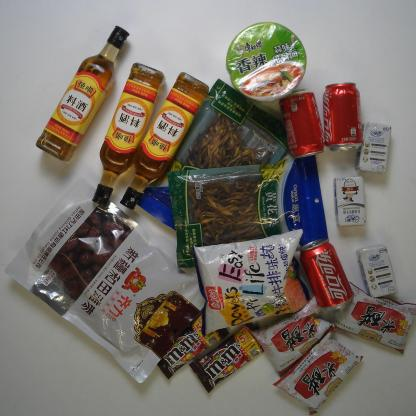Chocolate: (188, 325, 270, 394), (154, 308, 230, 380)
Dried Food: (3, 176, 210, 386), (136, 78, 290, 233), (168, 154, 330, 274)
Drink: (296, 236, 354, 314), (280, 90, 328, 160), (320, 80, 366, 152)
Instant Noodles: (222, 20, 309, 104)
Milk: (354, 244, 398, 300), (356, 120, 395, 175), (335, 175, 368, 228)
Puffed Food: (191, 228, 311, 338)
Seasoner: (35, 22, 129, 161), (119, 70, 211, 209), (90, 60, 165, 207), (272, 328, 366, 414), (324, 278, 416, 354), (252, 295, 336, 376)
